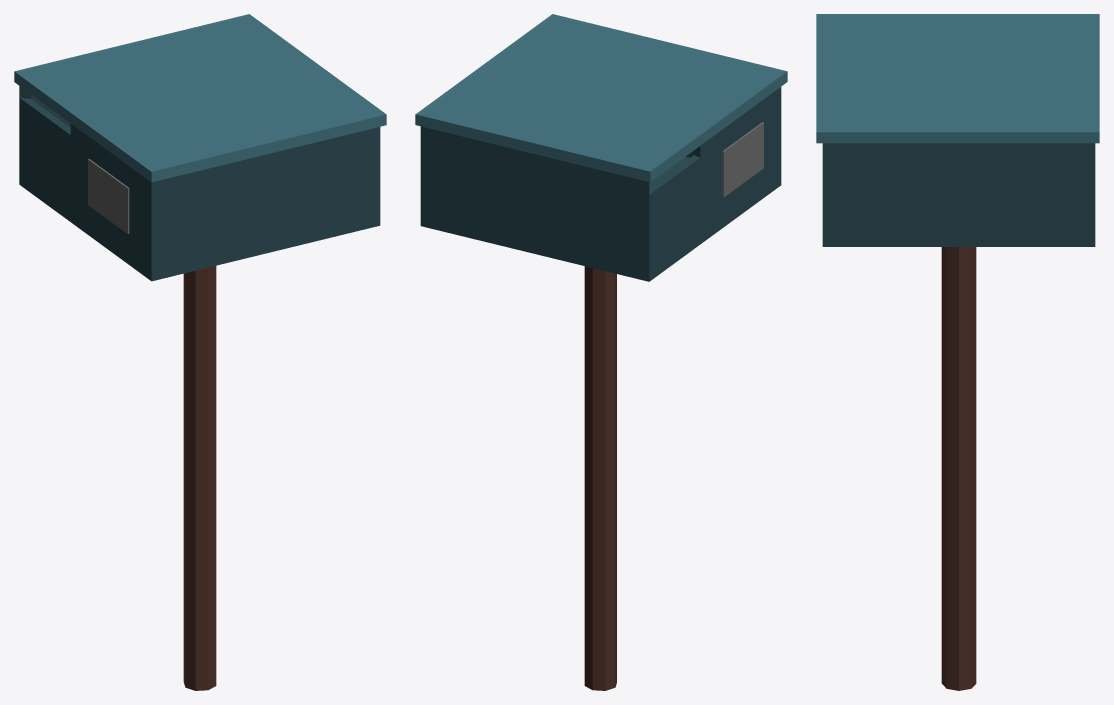
Rendered from Mailbox.fbx.
The picture shows the model from 3 angles, left to right: view 1: azimuth 30°, elevation 25°; view 2: azimuth 150°, elevation 25°; view 3: azimuth 270°, elevation 25°; orthographic projection. The views are drawn at different scales.
Visible parts, largest first — view 1: Mailbox; view 2: Mailbox; view 3: Mailbox.
Part boxes in pixels (left/top/right/bottom): Mailbox: left=14, top=14, right=386, bottom=690; Mailbox: left=415, top=14, right=787, bottom=690; Mailbox: left=816, top=14, right=1099, bottom=690.
Bounding box in the file's own units: 103 × 247 × 104.
